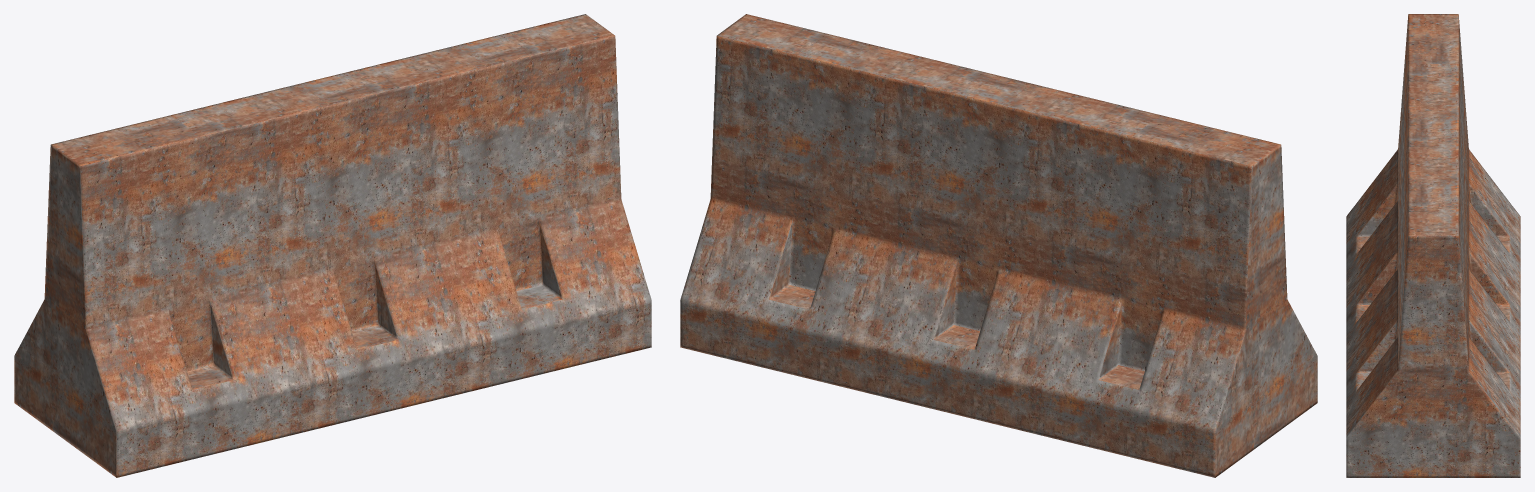
The model's file is p_cover.glb.
3 views of the same model, side by side, from view 1: azimuth 30°, elevation 25°; view 2: azimuth 150°, elevation 25°; view 3: azimuth 270°, elevation 25° (orthographic). The views are drawn at different scales.
Visible parts, largest first — view 1: Cube.002_0; view 2: Cube.002_0; view 3: Cube.002_0.
Part boxes in pixels (left/top/right/bottom): Cube.002_0: left=14, top=14, right=651, bottom=477; Cube.002_0: left=680, top=14, right=1317, bottom=477; Cube.002_0: left=1346, top=14, right=1520, bottom=477.
Bounding box in the file's own units: 3.55 × 1.81 × 1.18.
Materials: 1 (1 with a texture image).
